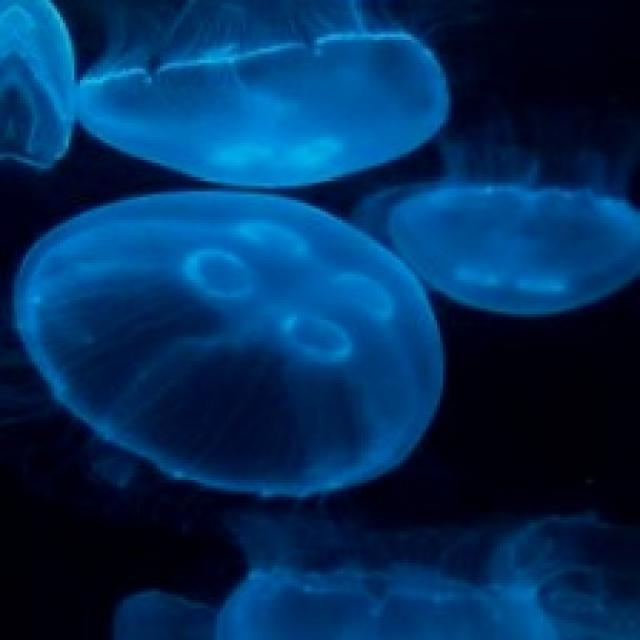Moon-jellyfish: (9, 186, 446, 500)
